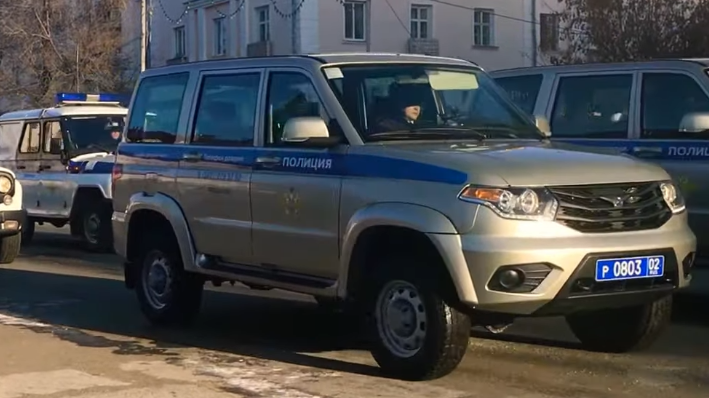police car: (115, 54, 695, 386), (1, 89, 137, 253)
